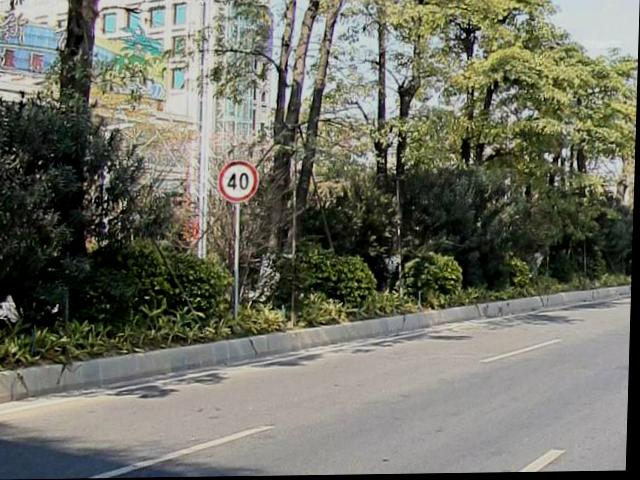limit40: (218, 160, 262, 204)
